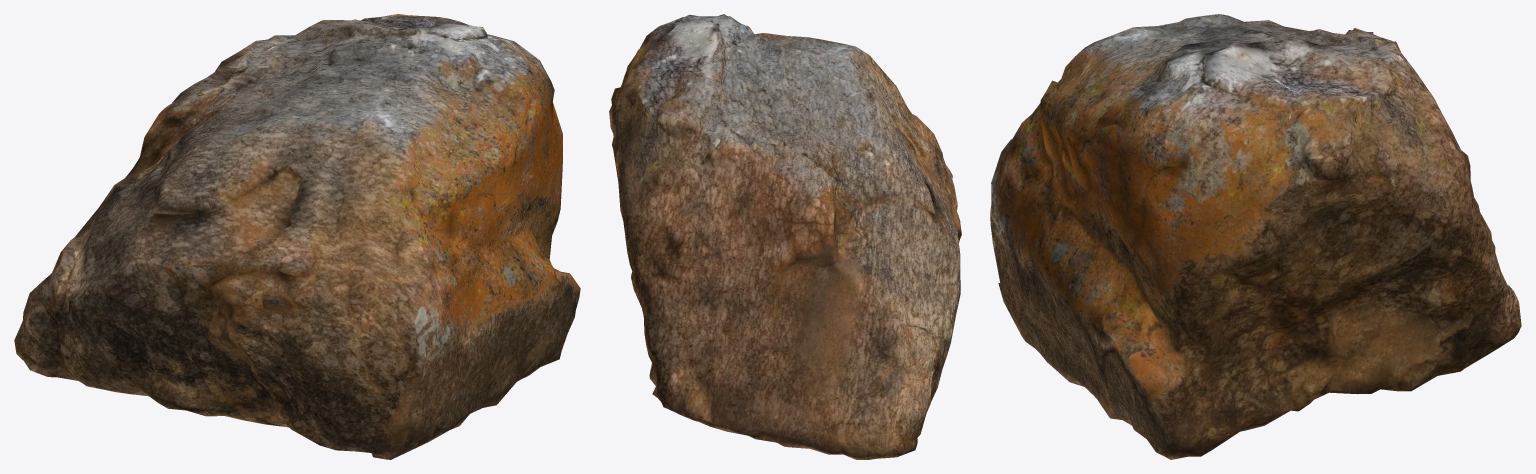
Rendered from boulder.glb.
3 views of the same model, side by side, from view 1: azimuth 30°, elevation 25°; view 2: azimuth 150°, elevation 25°; view 3: azimuth 270°, elevation 25° (orthographic). The views are drawn at different scales.
Parts seen in each view (by area): view 1: boulder_04; view 2: boulder_04; view 3: boulder_04.
Boxes of the visible parts, x1=… form: boulder_04: x1=14, y1=14, x2=580, y2=459; boulder_04: x1=609, y1=14, x2=961, y2=459; boulder_04: x1=990, y1=14, x2=1521, y2=459.
Bounding box in the file's own units: 2.52 × 1.9 × 2.48.
1 material, 1 textured.
